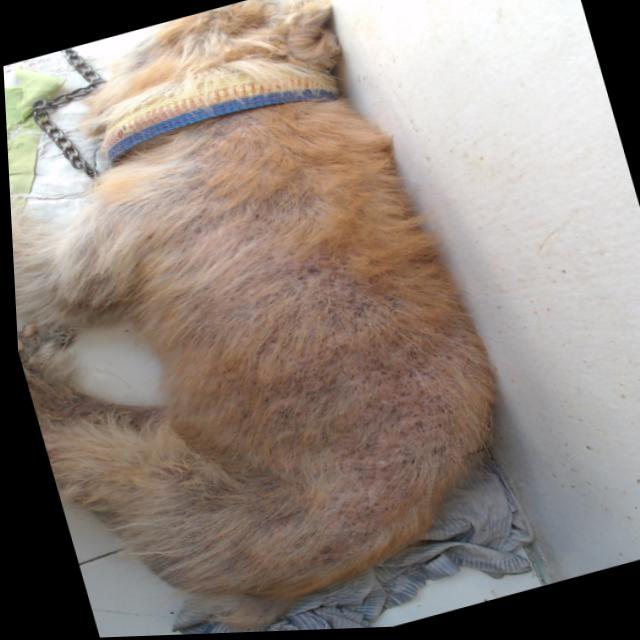demodicosis: (222, 230, 487, 545), (44, 383, 132, 453)
